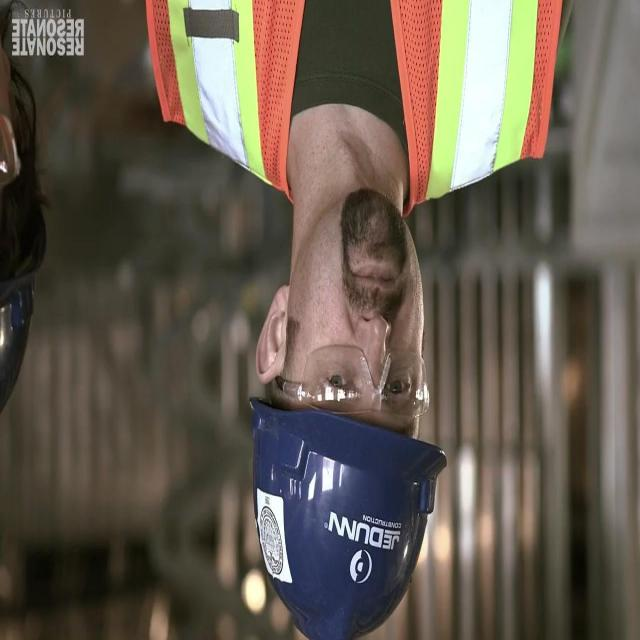helmet: (235, 393, 455, 640)
jacket: (135, 0, 574, 202)
